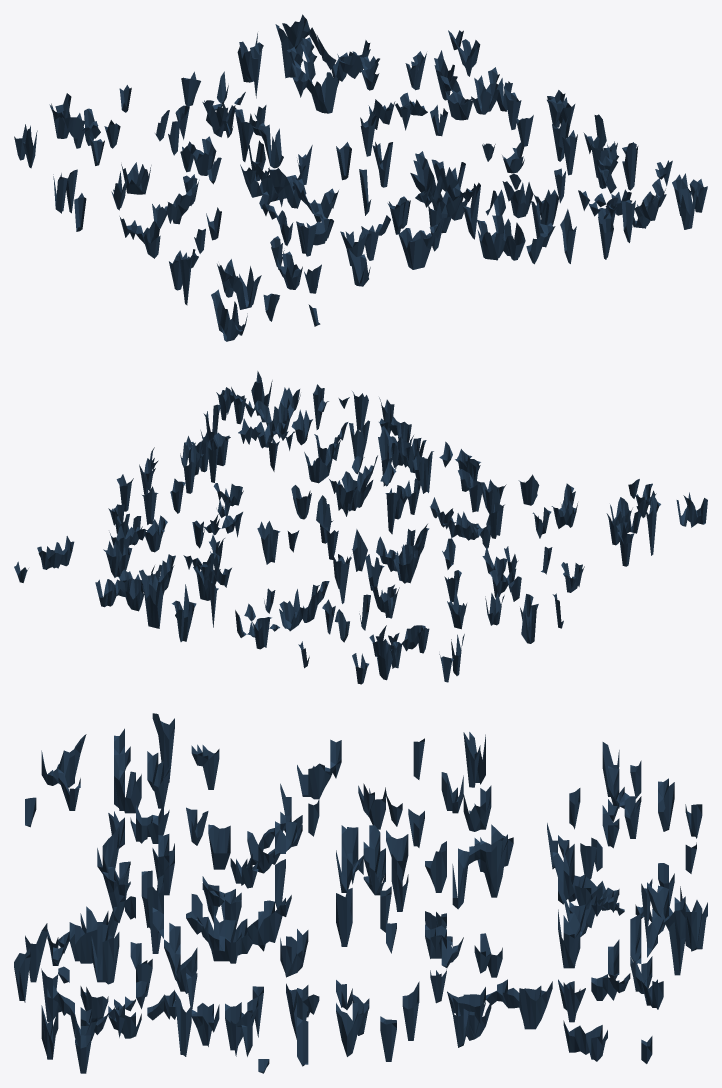
Rendered from landscape_MOUNTAIN_v2_rivers.obj.
The picture shows the model from 3 angles, top to bottom: view 1: azimuth 30°, elevation 25°; view 2: azimuth 150°, elevation 25°; view 3: azimuth 270°, elevation 25°; orthographic projection. The views are drawn at different scales.
Visible parts, largest first — view 1: rivers_MOUNTAIN; view 2: rivers_MOUNTAIN; view 3: rivers_MOUNTAIN.
Part boxes in pixels (x1,y1,x2,y2): rivers_MOUNTAIN: (14,14,707,341); rivers_MOUNTAIN: (14,371,707,684); rivers_MOUNTAIN: (14,713,707,1073).
Size of the model in its own units: 254 by 33.37 by 250.
